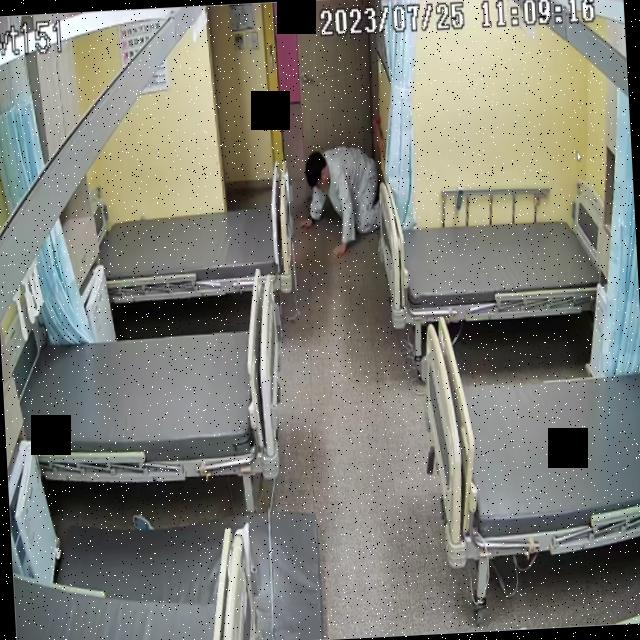bed: (420, 307, 640, 563), (14, 320, 286, 486), (376, 198, 616, 328), (99, 194, 292, 302)
fall: (296, 147, 380, 257)
patient: (292, 145, 382, 254)
